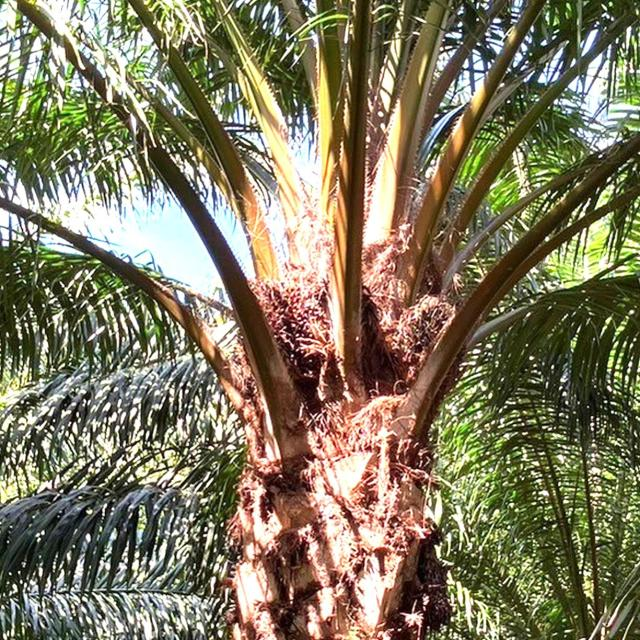ripe: (240, 263, 342, 387)
